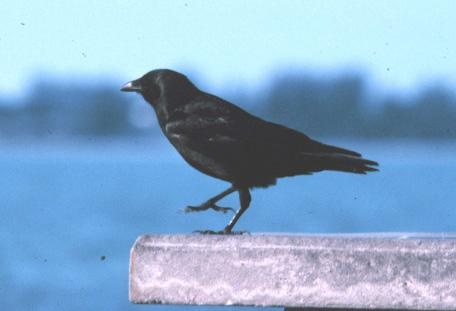bird: (117, 68, 381, 236)
